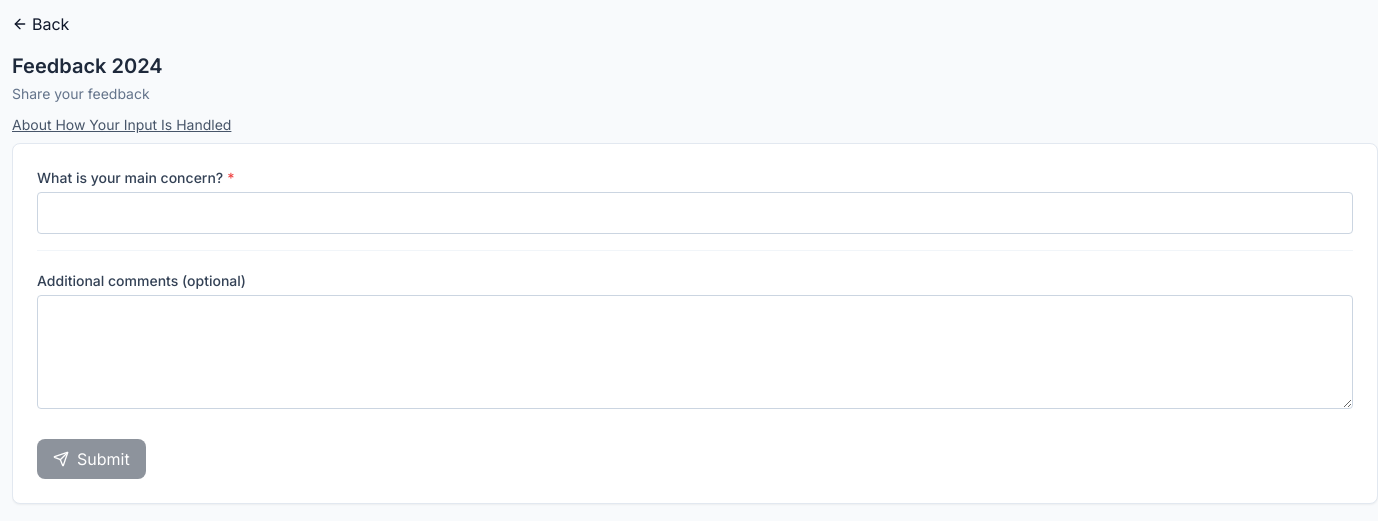
Scenario: SurveyPost › Validation › enables submit button when all required questions are filled
Type "My answer" into the field labelled "What is your main concern?*" at (695, 213), box [37, 192, 1353, 234]
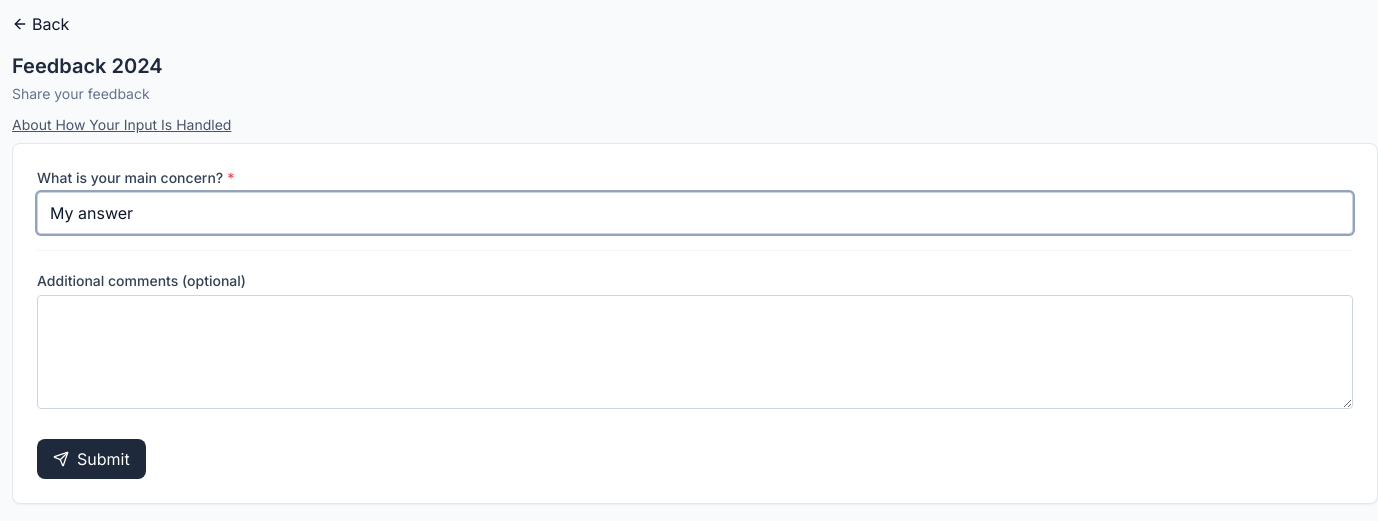
Expected: the button "Submit" is enabled, [37, 439, 146, 479]
